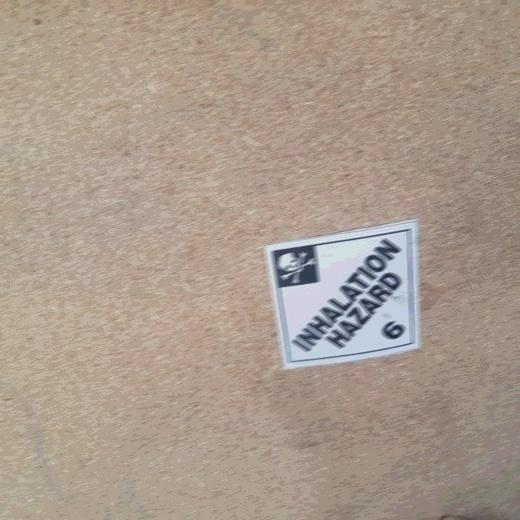poison: (269, 218, 423, 366)
